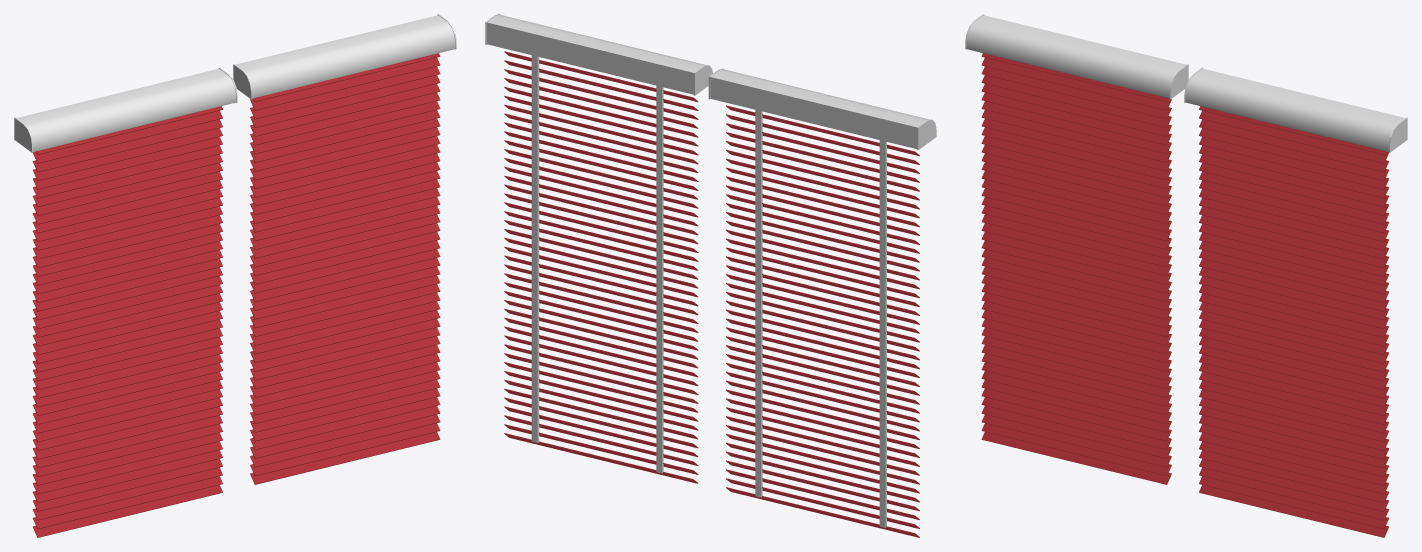
File: blinds.fbx
3 views of the same model, side by side, from view 1: azimuth 30°, elevation 25°; view 2: azimuth 150°, elevation 25°; view 3: azimuth 330°, elevation 25° (orthographic).
Visible parts, largest first — view 1: Plane.005, Cube.003; view 2: Plane.005, Cube.003, Cube.011; view 3: Plane.005, Cube.003.
Boxes of the visible parts, x1,y1,x2,y2 form: Plane.005: [32, 53, 440, 537]; Cube.003: [14, 14, 456, 152]; Plane.005: [504, 51, 919, 537]; Cube.003: [485, 14, 936, 150]; Cube.011: [531, 55, 886, 527]; Plane.005: [981, 53, 1389, 537]; Cube.003: [965, 14, 1407, 152].
Bounding box in the file's own units: 121 × 113 × 8.89.
